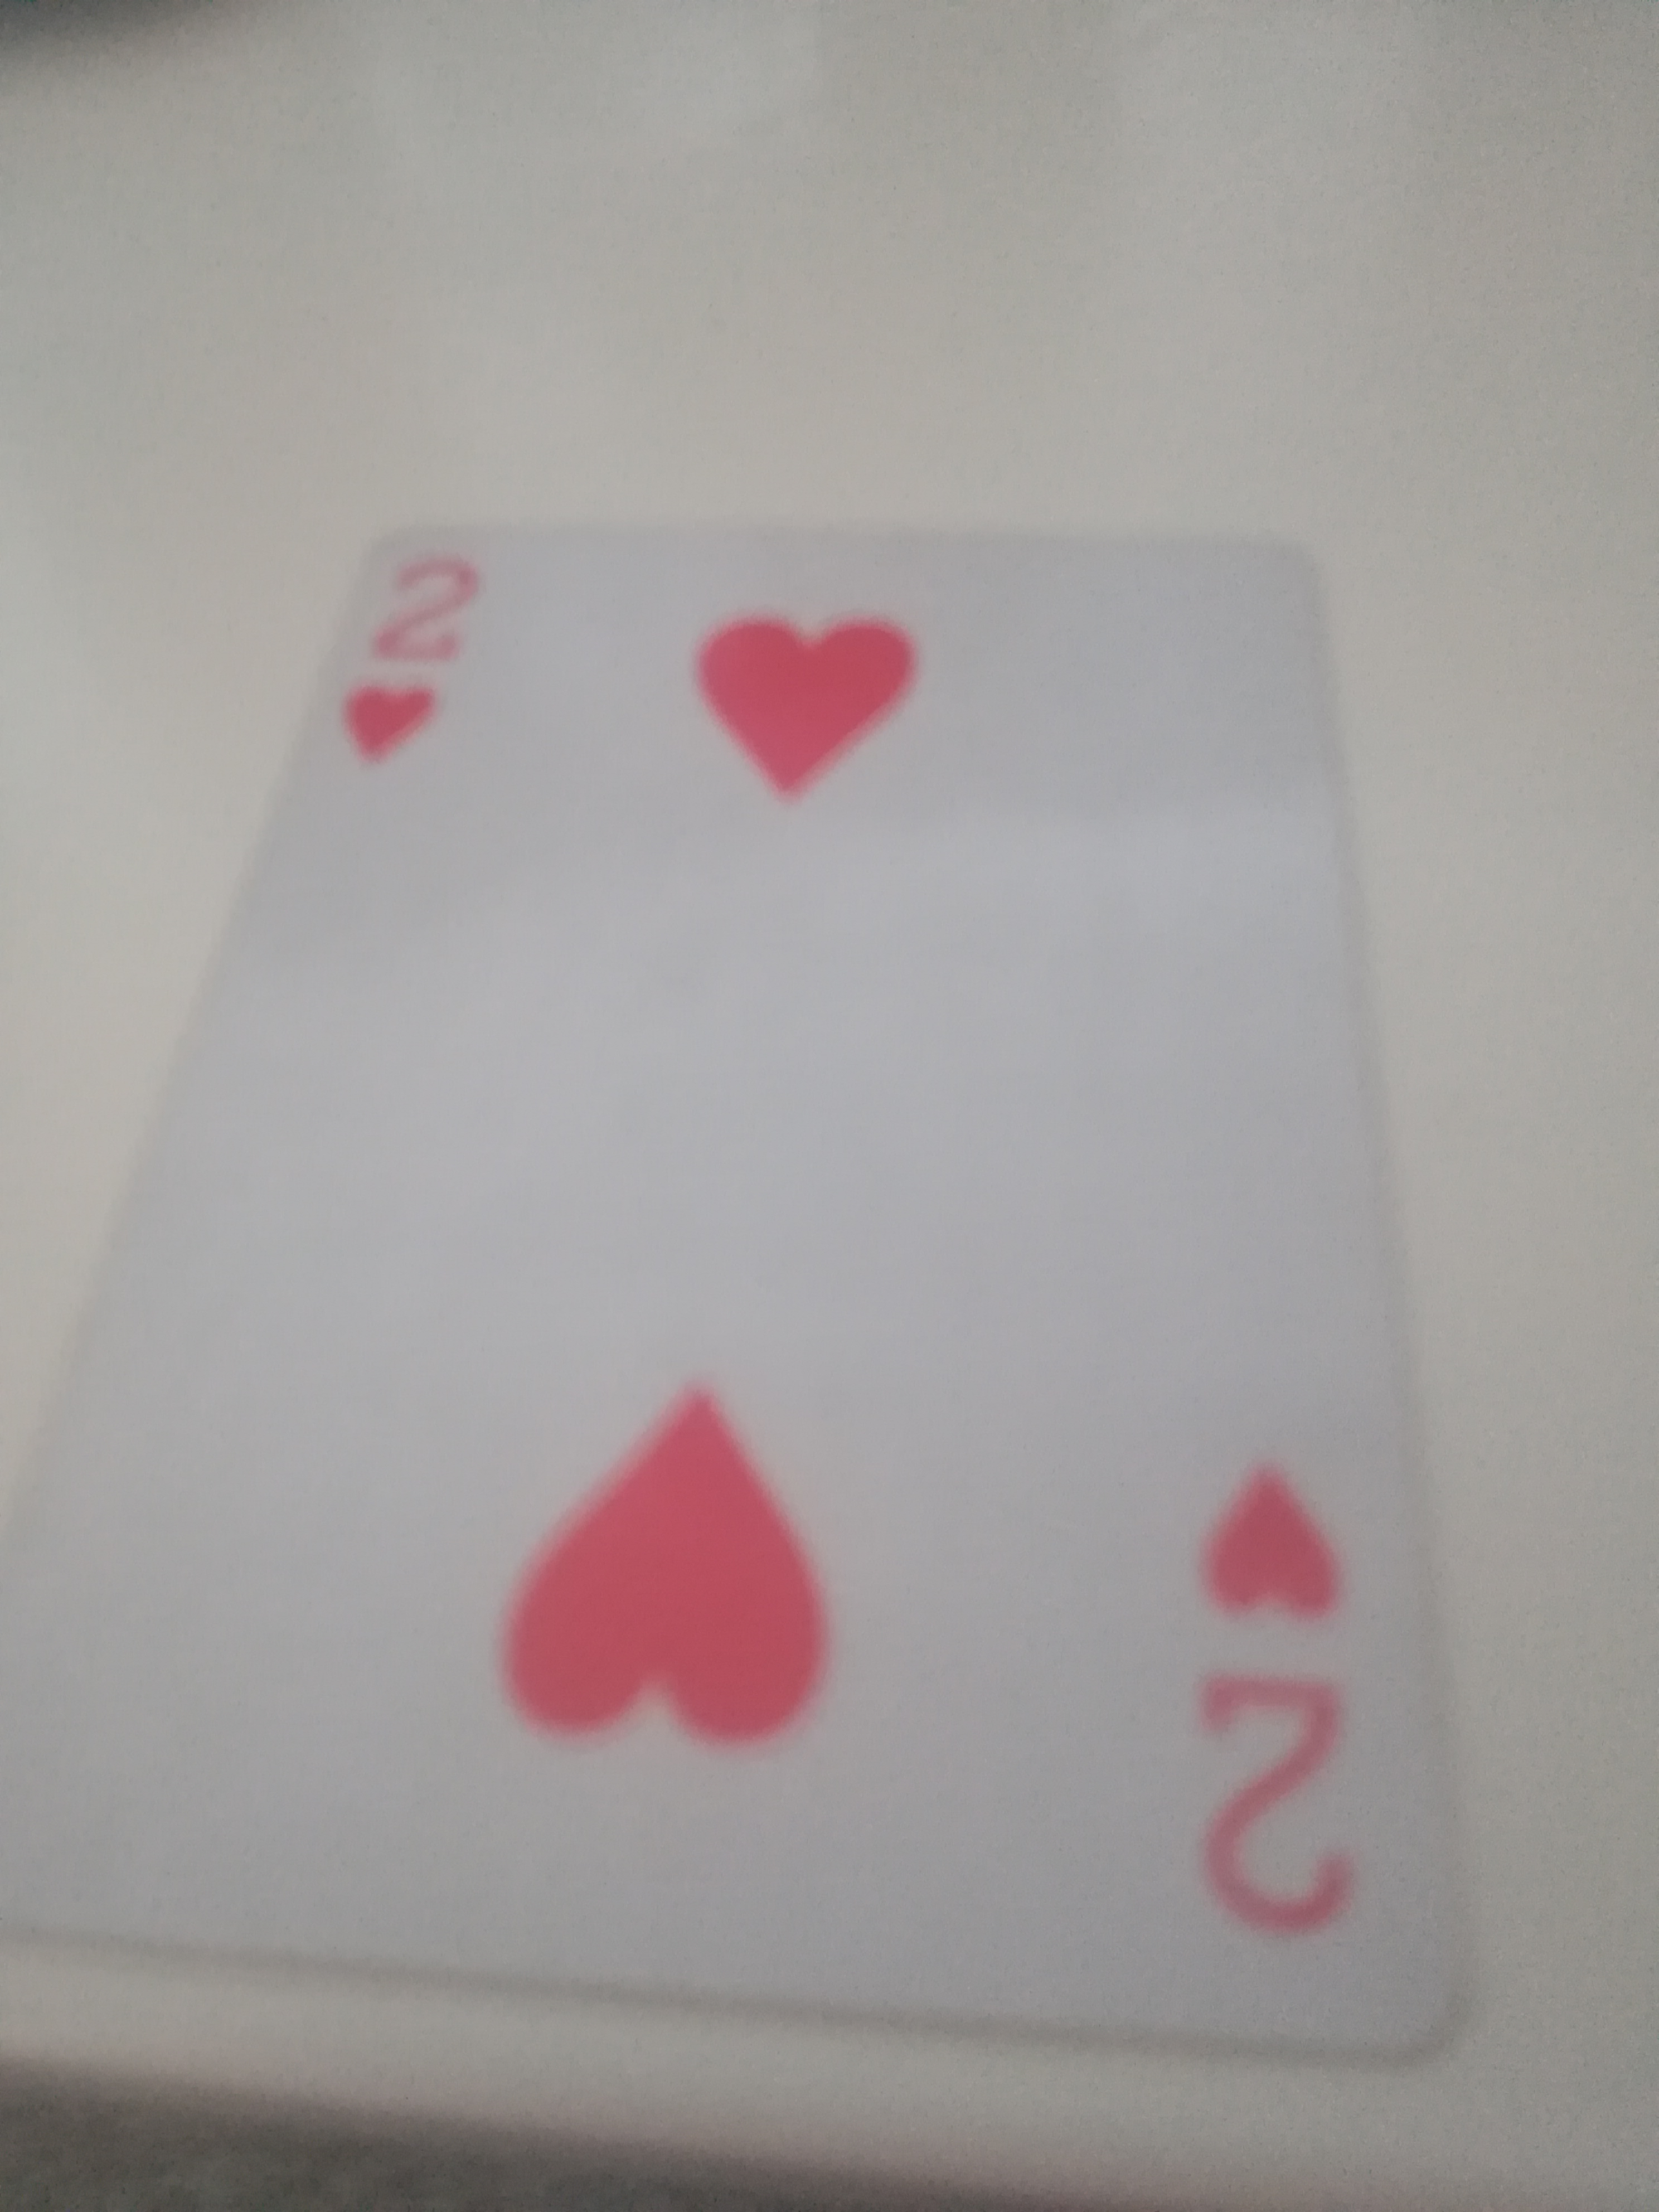2H: (0, 521, 1488, 2080)
